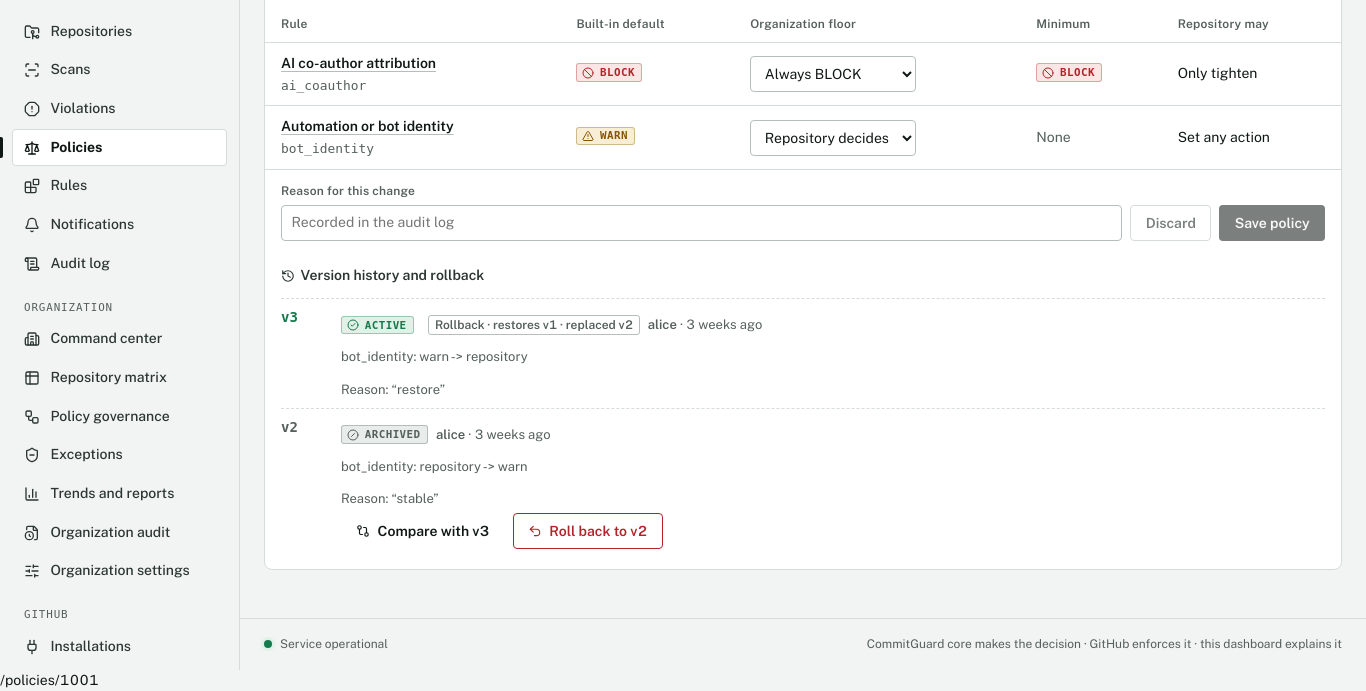
it: policy rollback › explains a concurrent change instead of overwriting it
(page scrolled)
Click the button "Roll back to v2" at (588, 531), box top-left (513, 513), bottom-right (663, 549)
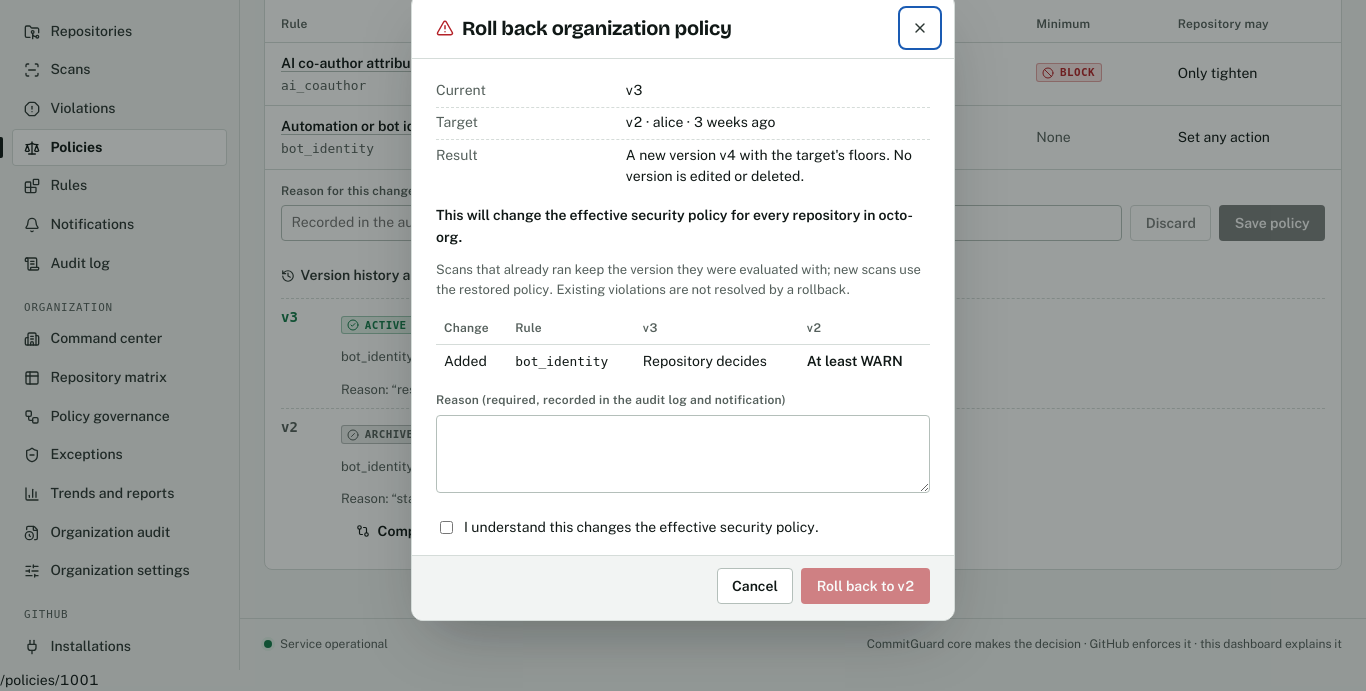
Type "x" into the text box labelled "Reason" at (683, 454), box top-left (436, 415), bottom-right (930, 493)
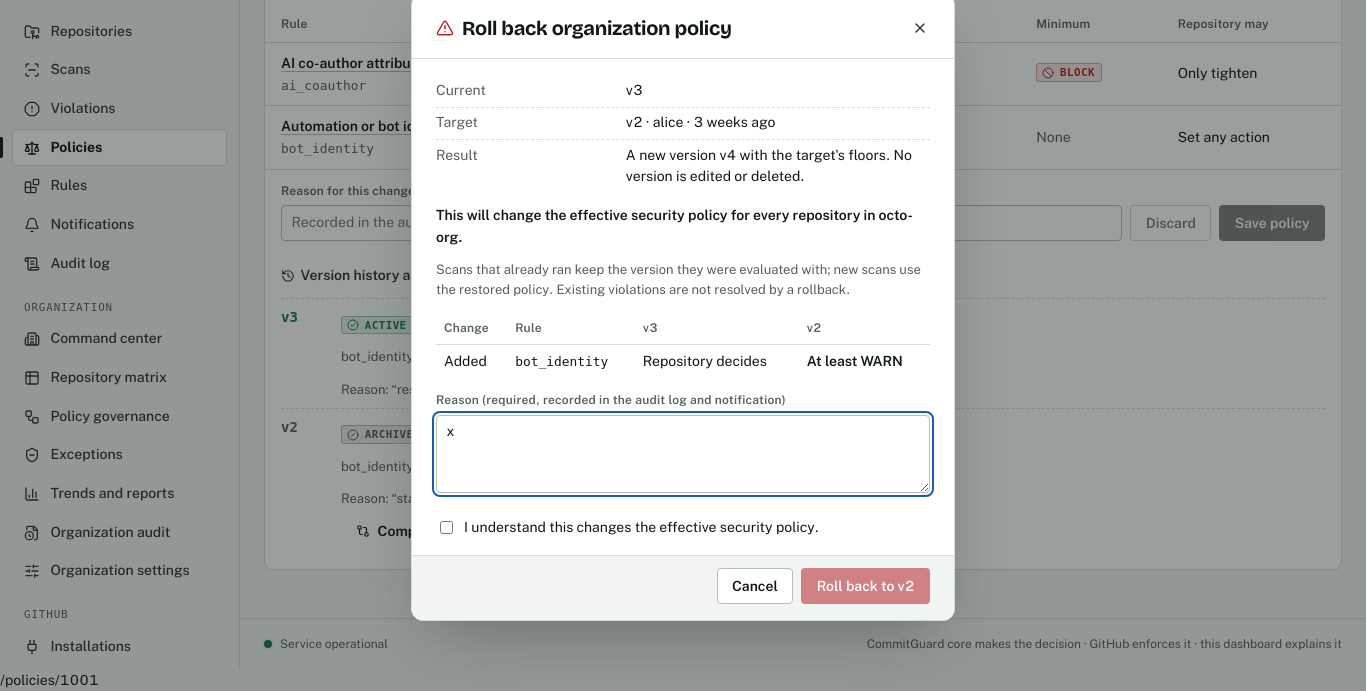
Click the checkbox labelled "I understand this changes the effective security policy." at (446, 528), box top-left (440, 521), bottom-right (453, 534)
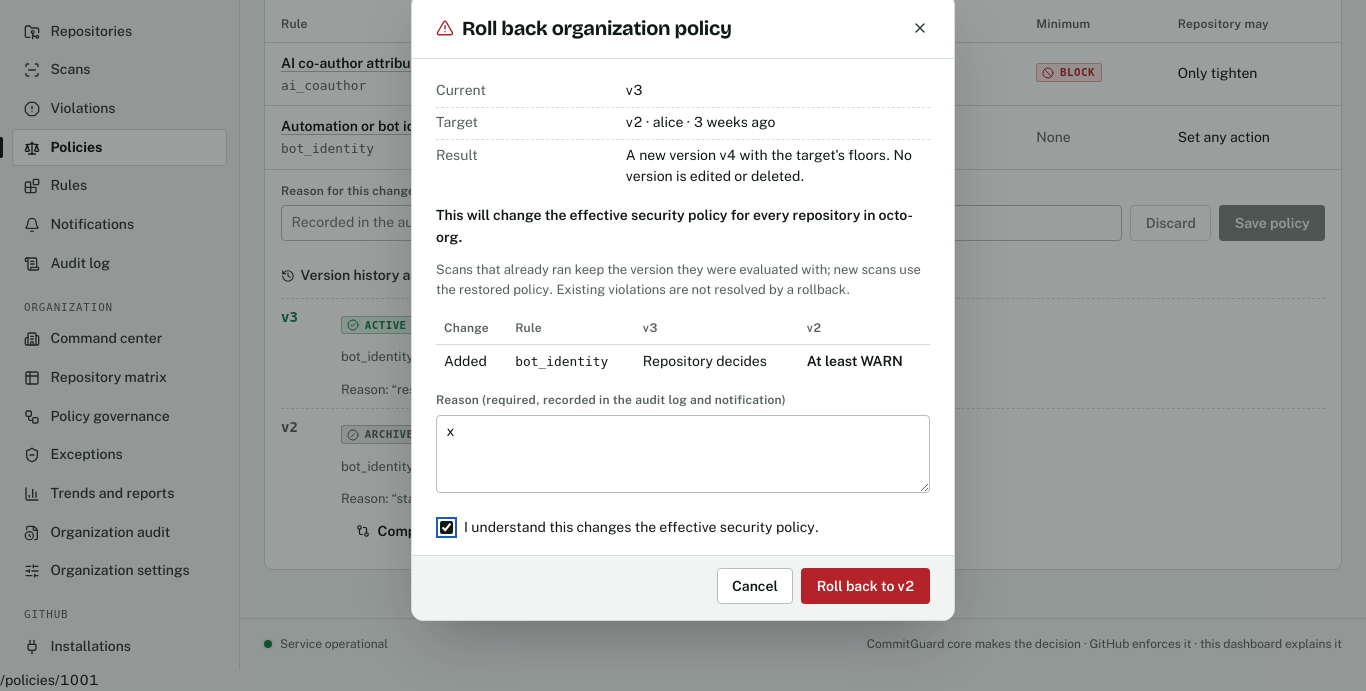
Click the button "Roll back to v2" at (866, 586), box top-left (801, 568), bottom-right (930, 604)
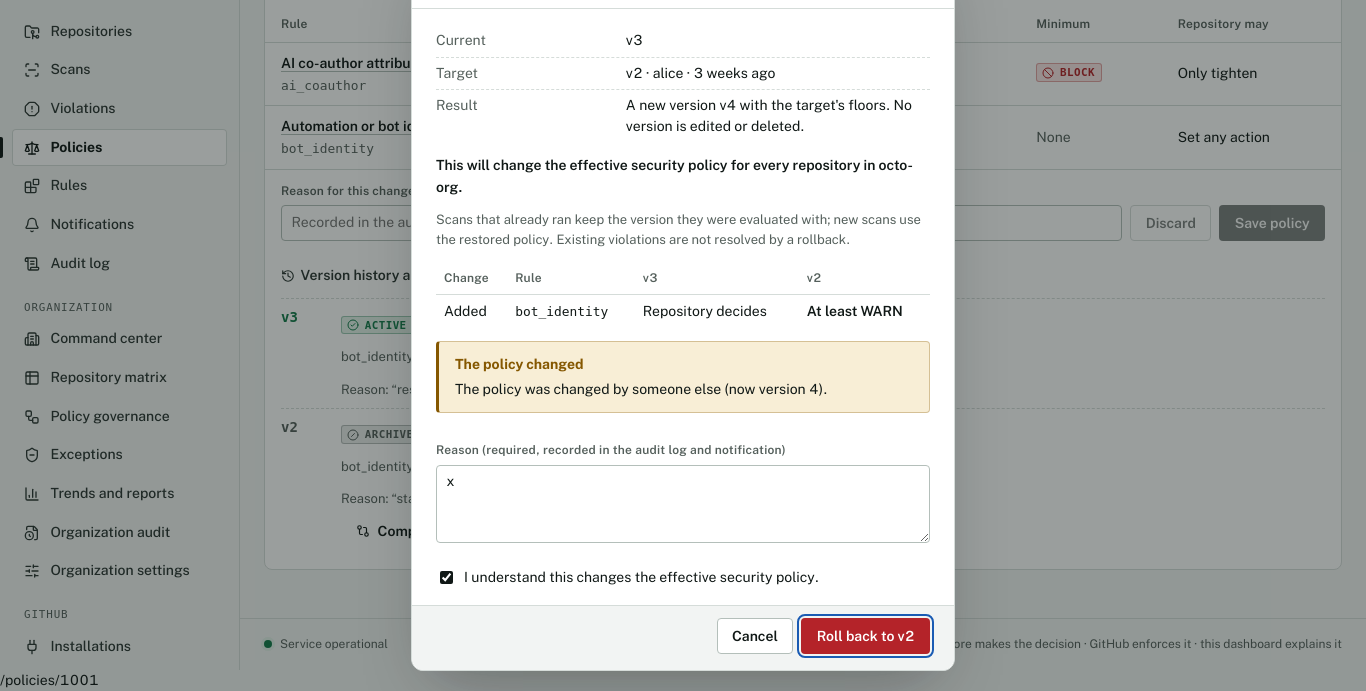
Check: the text "The policy changed" is shown, box top-left (455, 356), bottom-right (584, 372)
Check: the text "The policy was changed by someone else (now version 4)." is shown, box top-left (455, 380), bottom-right (827, 396)
